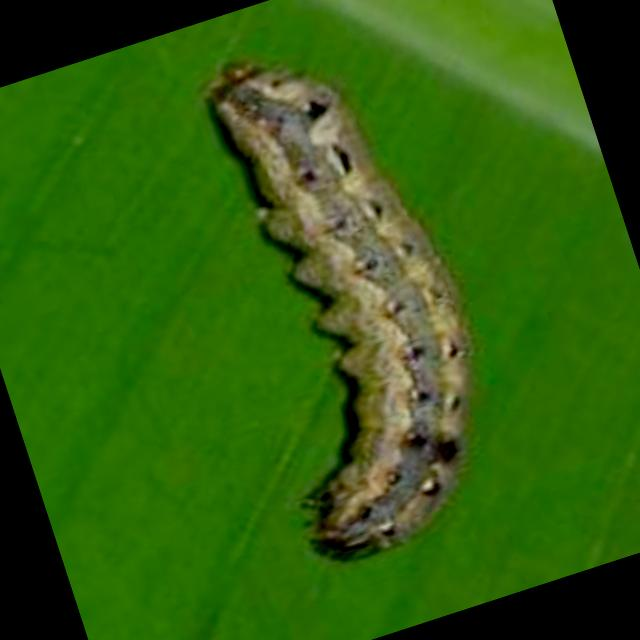Tobacco cutworm: (91, 0, 576, 614)
